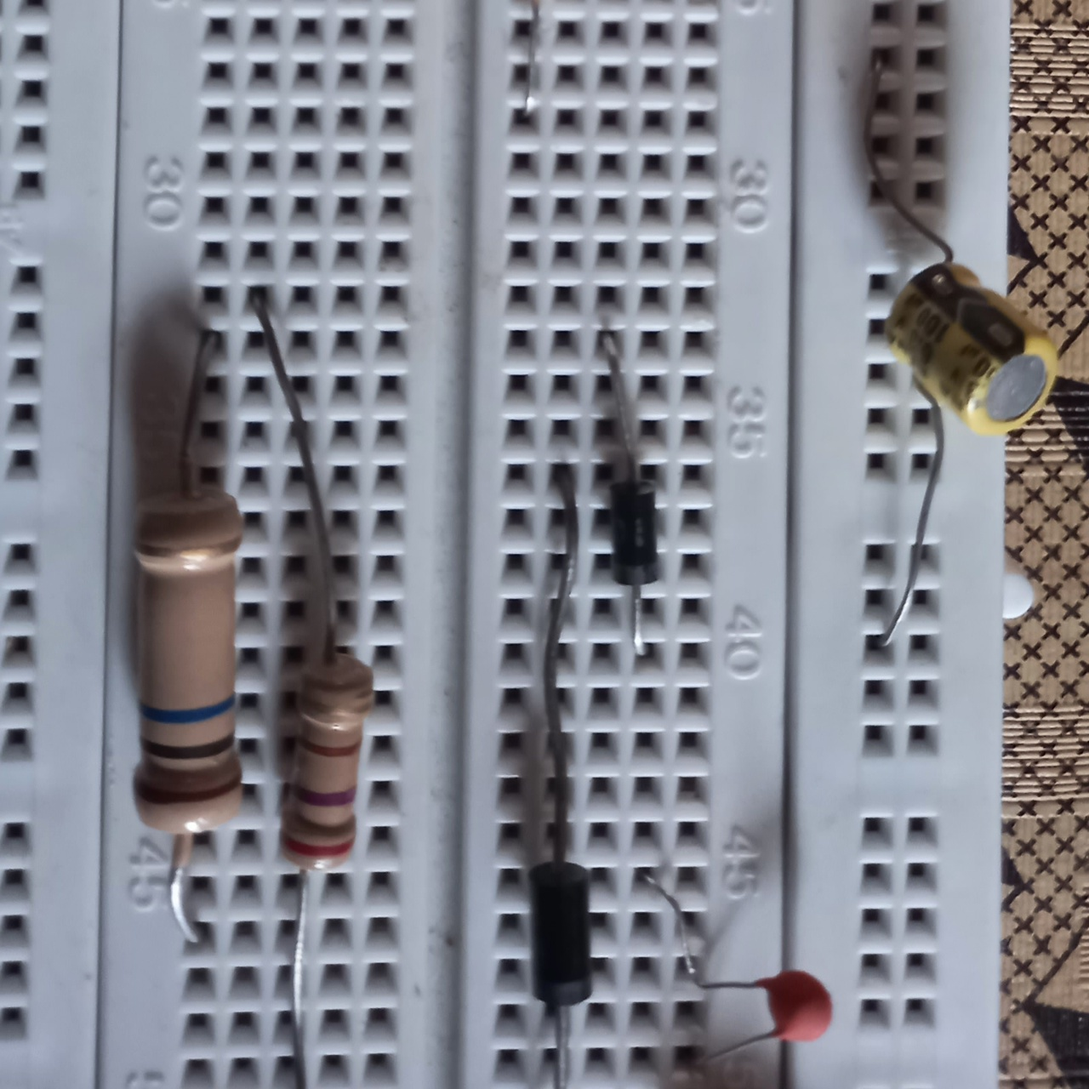capacitor: (882, 253, 1057, 445), (768, 968, 832, 1040)
resistor: (129, 499, 249, 824), (285, 657, 368, 861)
